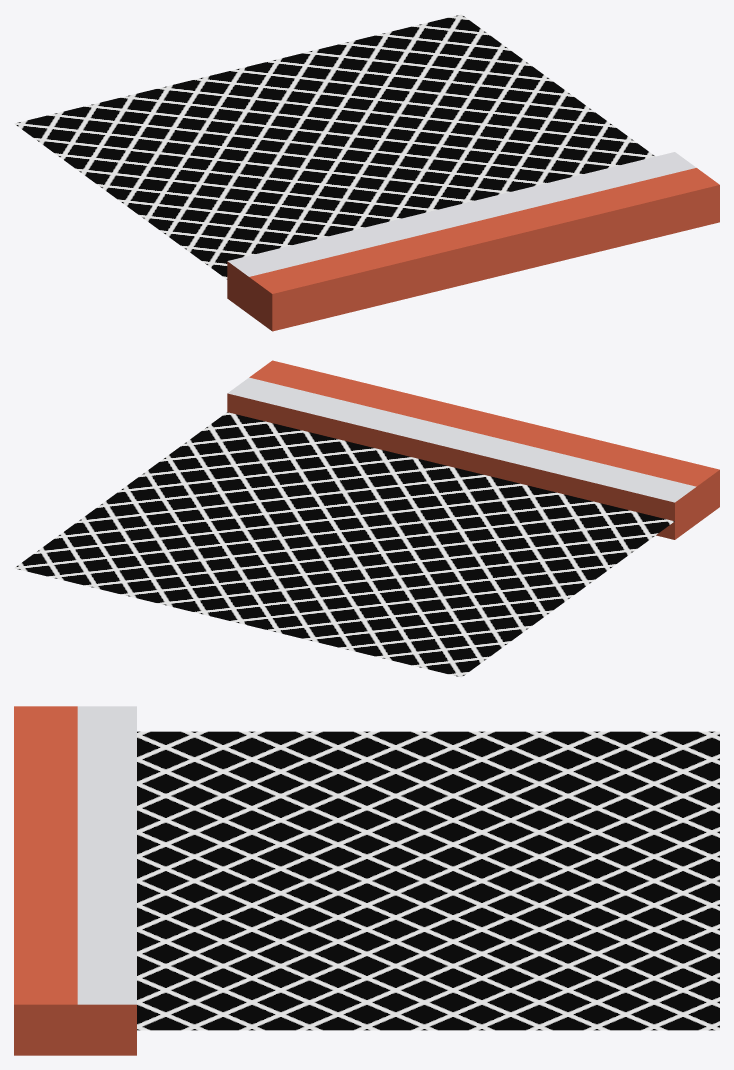
The model's file is metalTileConnectSide.fbx.
3 renders of one model, top to bottom at view 1: azimuth 30°, elevation 25°; view 2: azimuth 150°, elevation 25°; view 3: azimuth 270°, elevation 25°, orthographic. The views are drawn at different scales.
Parts seen in each view (by area): view 1: metalTileConnectSide; view 2: metalTileConnectSide; view 3: metalTileConnectSide.
Boxes of the visible parts, box(x1,y1,x2,y2) form: metalTileConnectSide: box(14, 14, 719, 331); metalTileConnectSide: box(14, 360, 719, 677); metalTileConnectSide: box(14, 706, 719, 1055).
Size of the model in its own units: 10 by 0.8 by 10.
3 materials, 1 textured.
